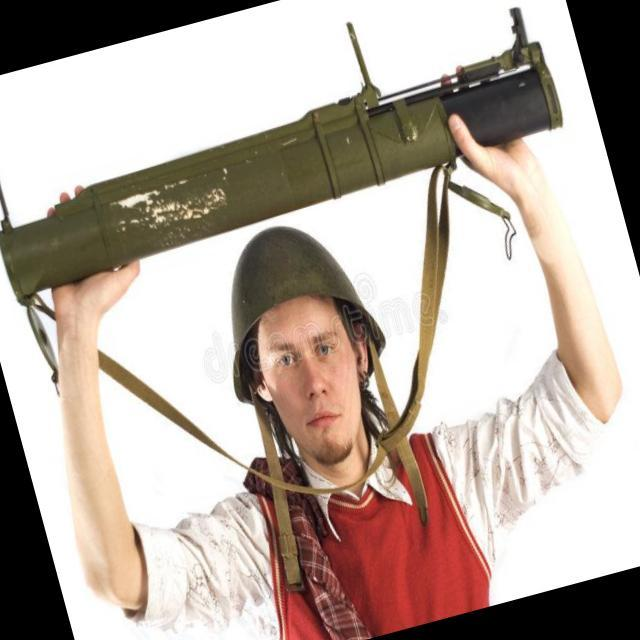rocket: (0, 0, 587, 313)
